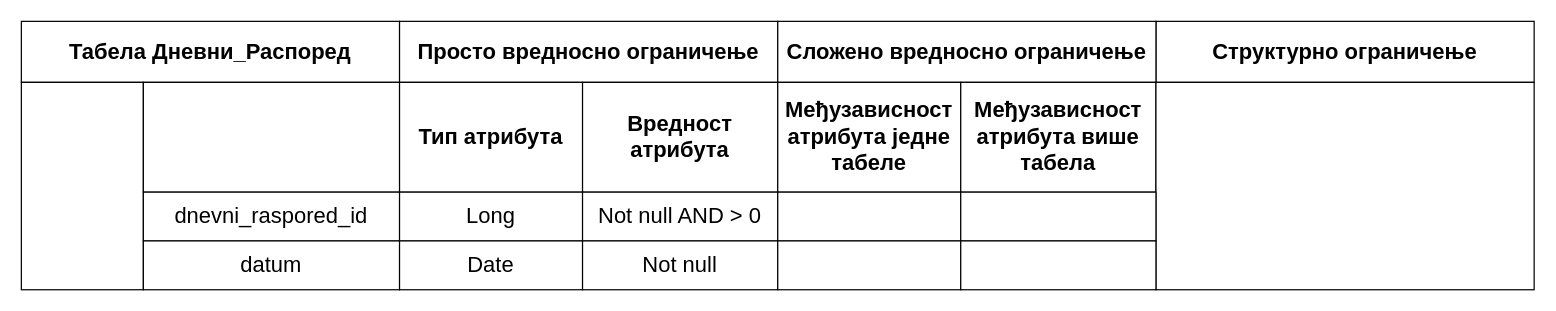
Some shapes in this 1556 by 311 pixel diagram are drawn without their labels. Here are the shapes that lost their labels. From the top down, the centre of each, then its label:
point (271, 136): Име
point (81, 185): Атрибути
point (1344, 185): INSERT / UPDATE CASCADES P_DR DELETE RESTRICTED P_DR
